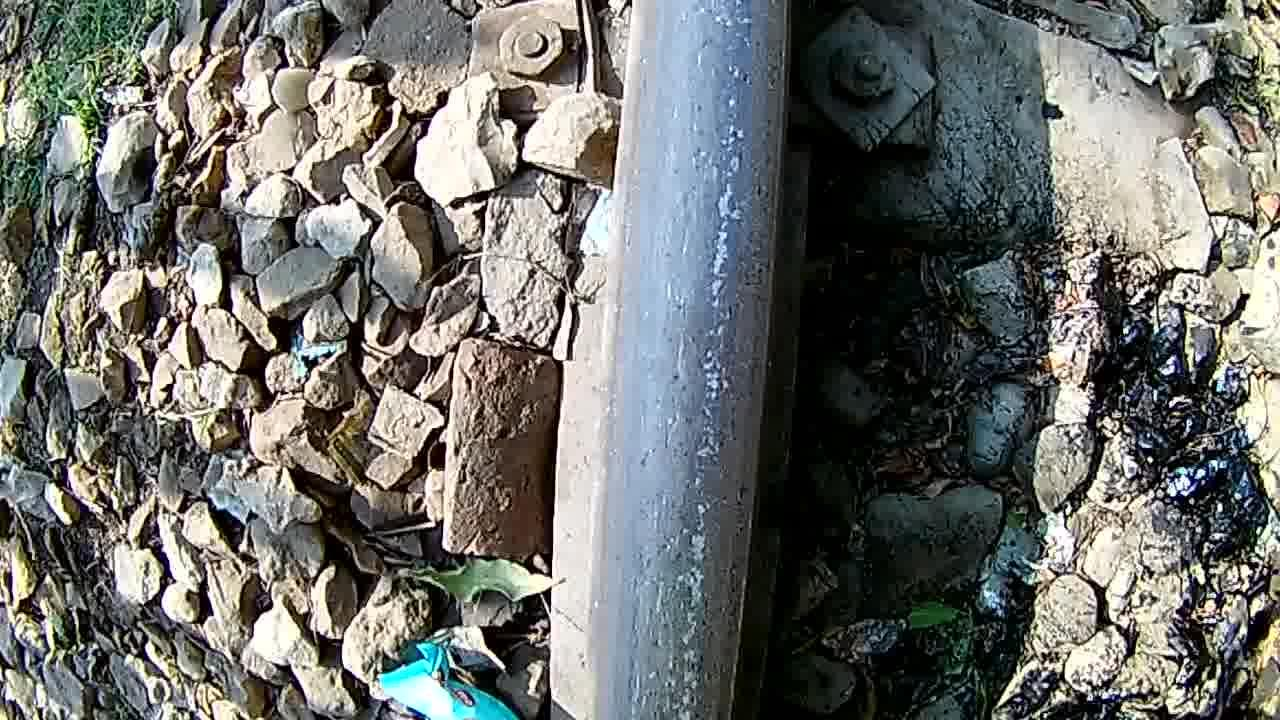clip_missing: (610, 0, 800, 720)
